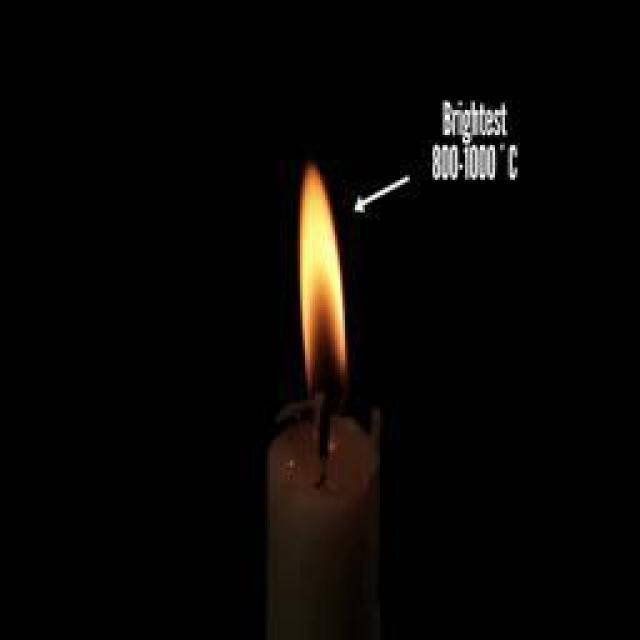Fire: (298, 168, 350, 382)
